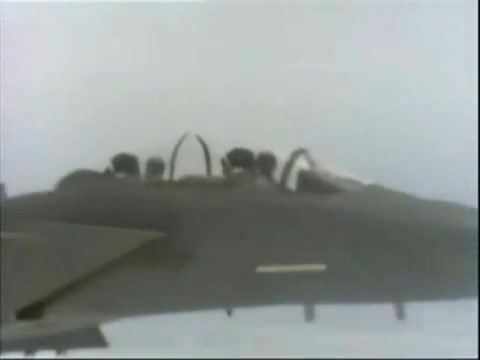aeroplane: (2, 132, 480, 359)
